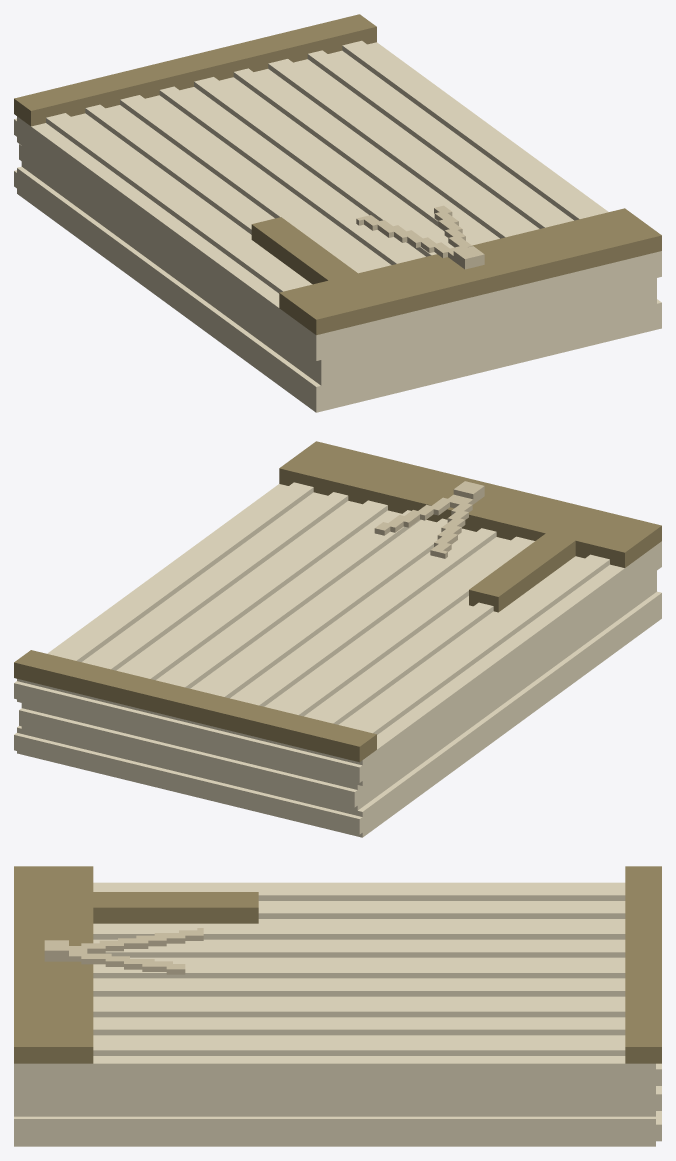
Rendered from gambeson_pants.glb.
The picture shows the model from 3 angles, top to bottom: view 1: azimuth 30°, elevation 25°; view 2: azimuth 150°, elevation 25°; view 3: azimuth 270°, elevation 25°; orthographic projection. The views are drawn at different scales.
Visible parts, largest first — view 1: gambeson_pants:compound; view 2: gambeson_pants:compound; view 3: gambeson_pants:compound.
Part boxes in pixels (<box>): gambeson_pants:compound: <box>14,14,661,412</box>; gambeson_pants:compound: <box>14,441,661,837</box>; gambeson_pants:compound: <box>14,866,661,1146</box>.
Size of the model in its own units: 0.28 by 0.08 by 0.424.
